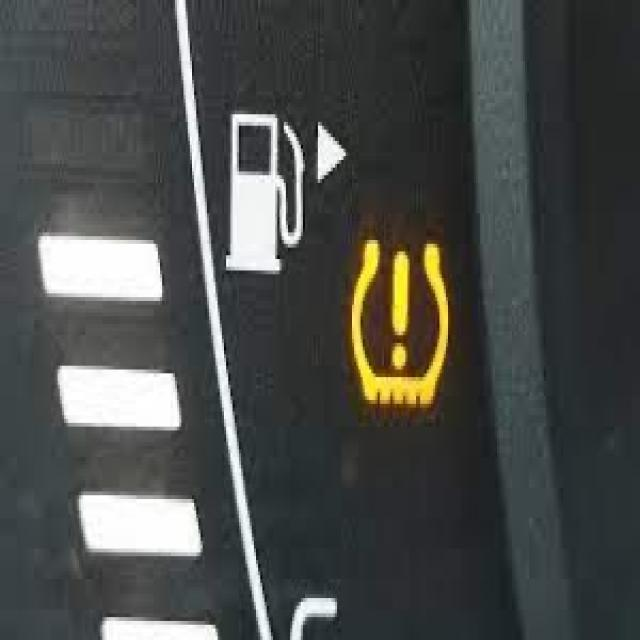kontrolka: (348, 231, 460, 424)
